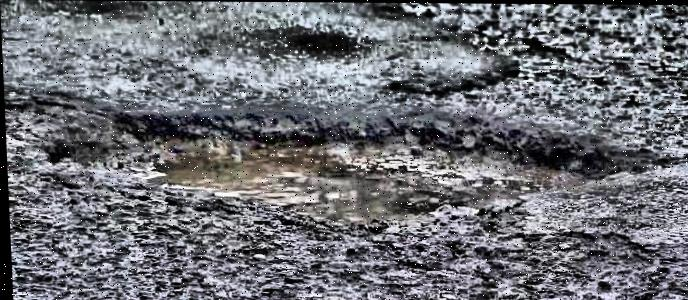pothole: (37, 102, 651, 233), (276, 24, 363, 59)
